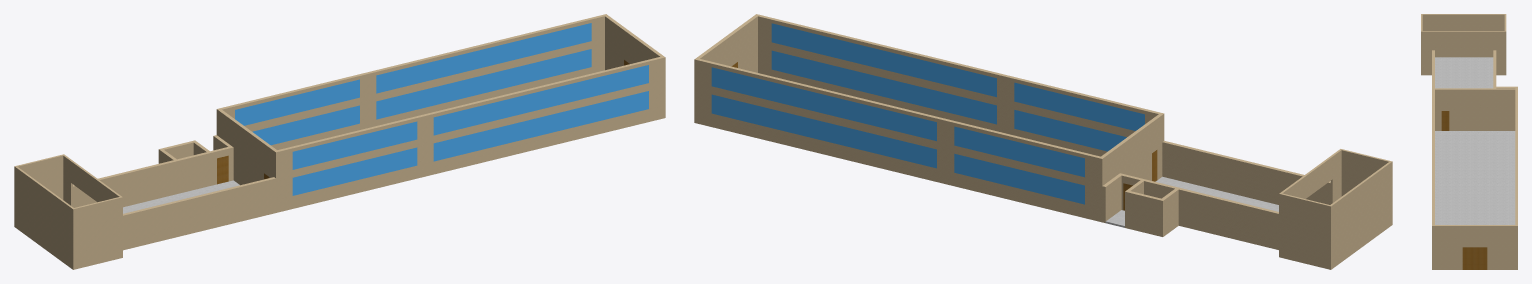
Rendered from Pump_Station_1_expansion.glb.
The picture shows the model from 3 angles, left to right: view 1: azimuth 30°, elevation 25°; view 2: azimuth 150°, elevation 25°; view 3: azimuth 270°, elevation 25°; orthographic projection. The views are drawn at different scales.
Parts seen in each view (by area): view 1: Floor1; view 2: Floor1; view 3: Floor1.
Part boxes in pixels (x1,y1,x2,y2): Floor1: [14, 14, 665, 269]; Floor1: [694, 14, 1392, 269]; Floor1: [1421, 14, 1517, 269].
Size of the model in its own units: 72.47 by 7 by 13.99.
Materials: 4 (4 with a texture image).
